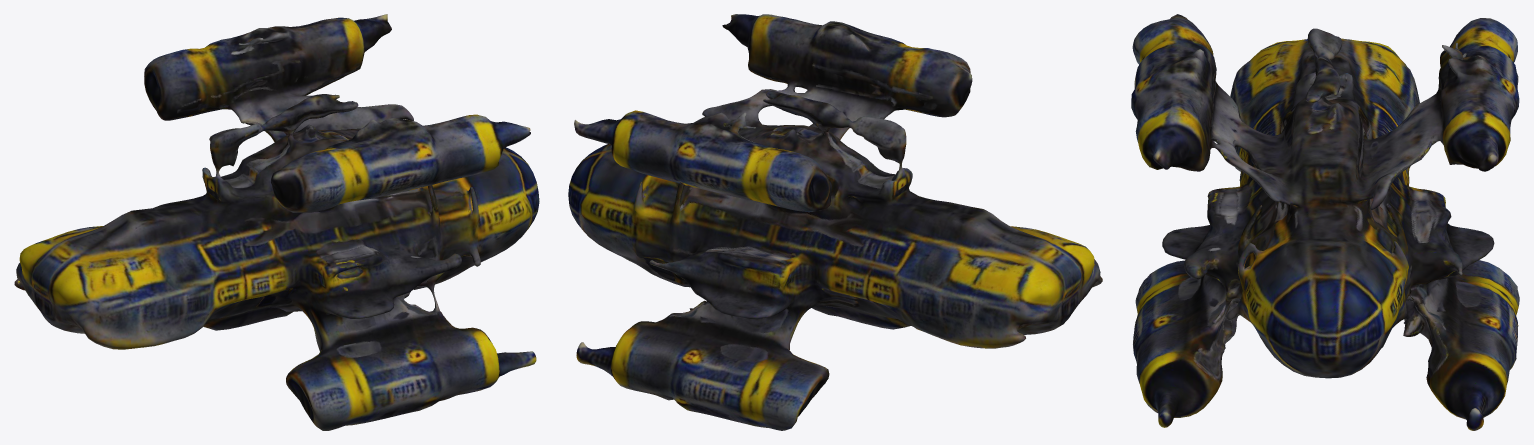
The model's file is f906021ed7c8_realistic__bomber__.fbx.
The picture shows the model from 3 angles, left to right: view 1: azimuth 30°, elevation 25°; view 2: azimuth 150°, elevation 25°; view 3: azimuth 270°, elevation 25°; orthographic projection. The views are drawn at different scales.
Visible parts, largest first — view 1: mesh; view 2: mesh; view 3: mesh.
Boxes of the visible parts, x1=… form: mesh: x1=14, y1=14, x2=539, y2=430; mesh: x1=568, y1=14, x2=1102, y2=430; mesh: x1=1131, y1=14, x2=1519, y2=430.
Bounding box in the file's own units: 99.9 × 56.85 × 61.01.
